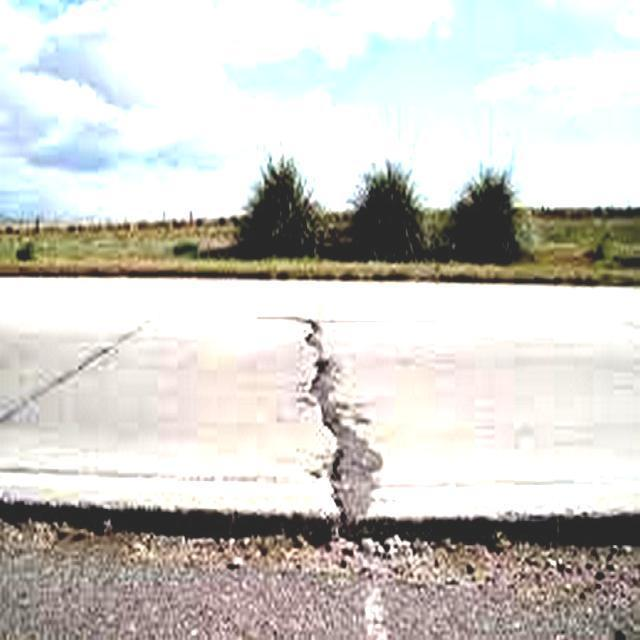GRIETA: (295, 318, 382, 536), (0, 325, 143, 421), (0, 465, 309, 484), (377, 479, 593, 488)
